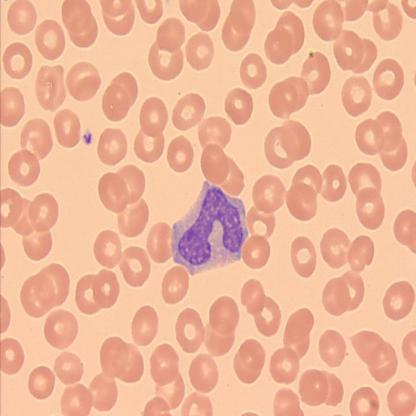Monocyte: (169, 177, 250, 277)
